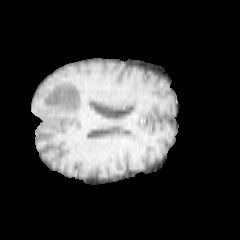glioma: (40, 81, 95, 112)
